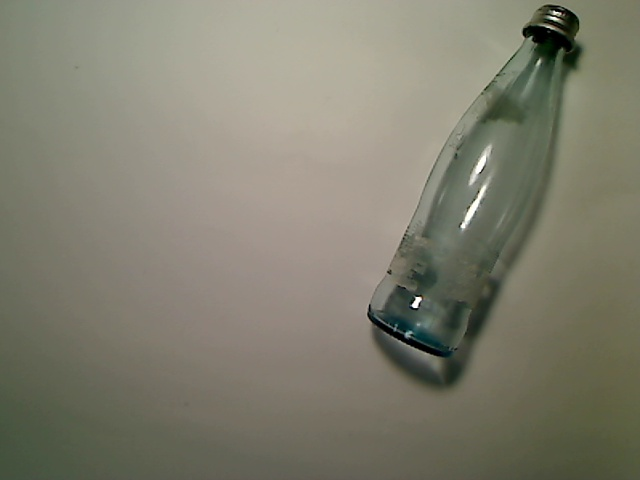bottle: (365, 5, 581, 357)
